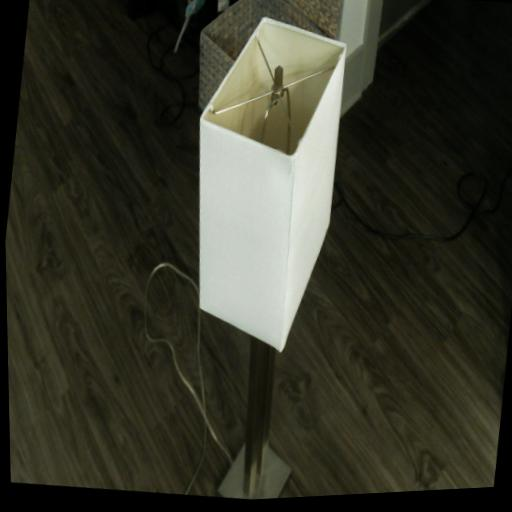lamp: (151, 4, 361, 504)
